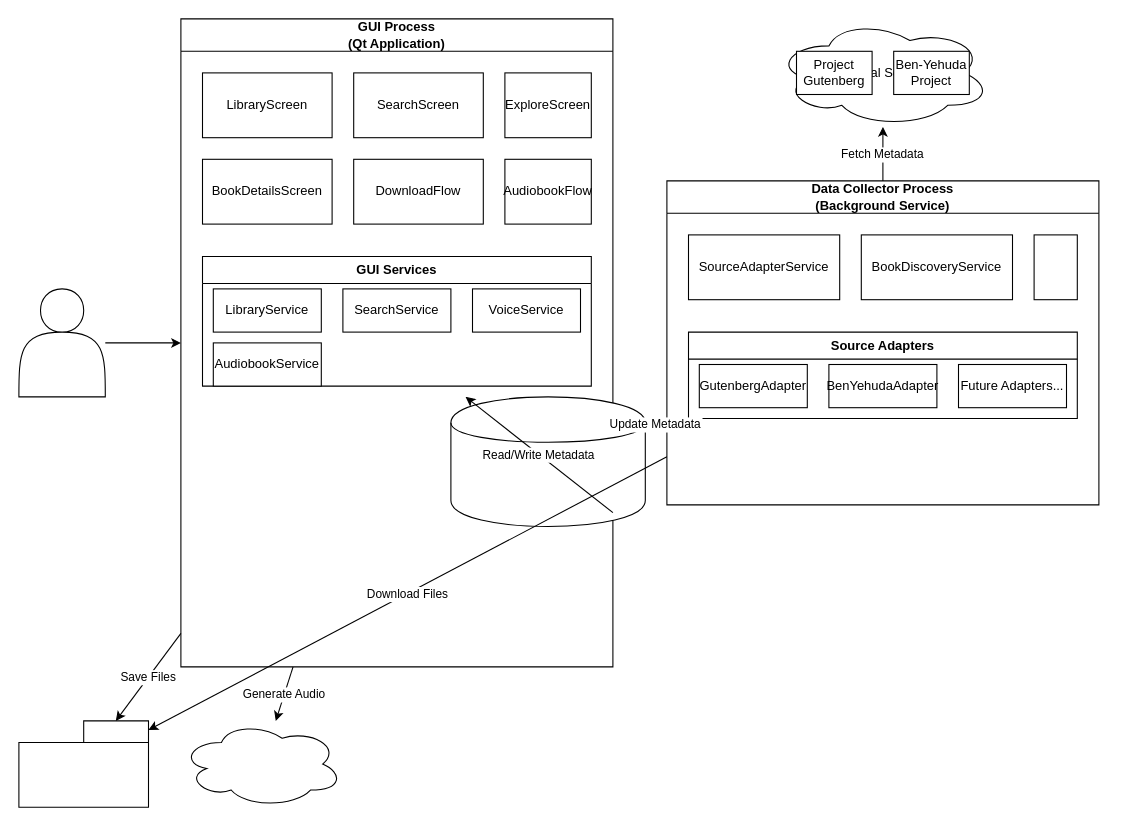
The diagram is 1124 pixels wide and 826 high, and some of its shapes have lost their labels. The shapes that lost their labels are listed below. From the top down, each one's centre as x and y in pixels, then its label:
At point (1055, 267): "DownloadService".
At point (61, 342): "User".
At point (547, 461): "SQLite Database (Shared - Metadata Only)".
At point (83, 763): "Local File Storage (Books & Audio)".
At point (261, 763): "TTS Service (External/Local)".
